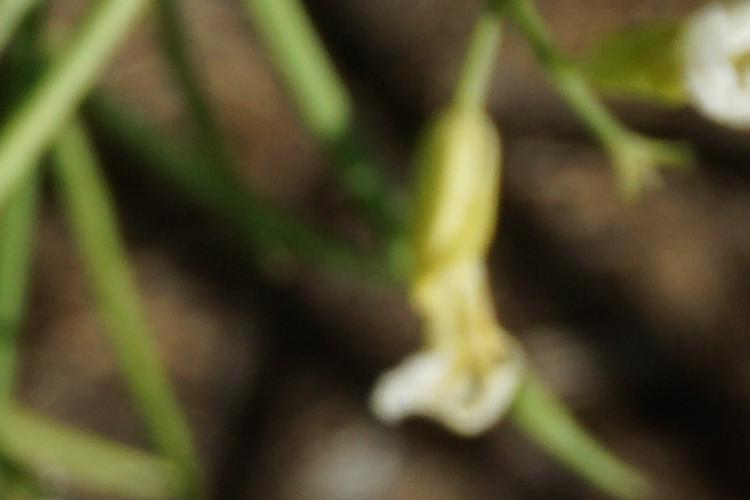yellow: (367, 95, 546, 433)
